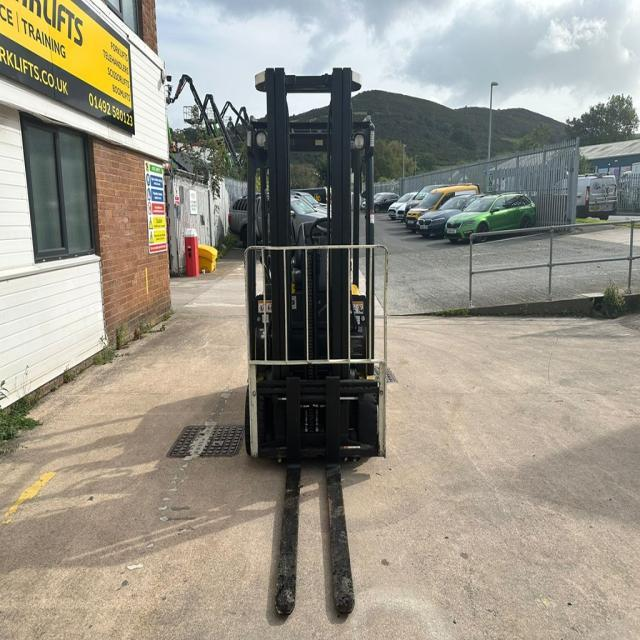forklift: (225, 49, 404, 488)
